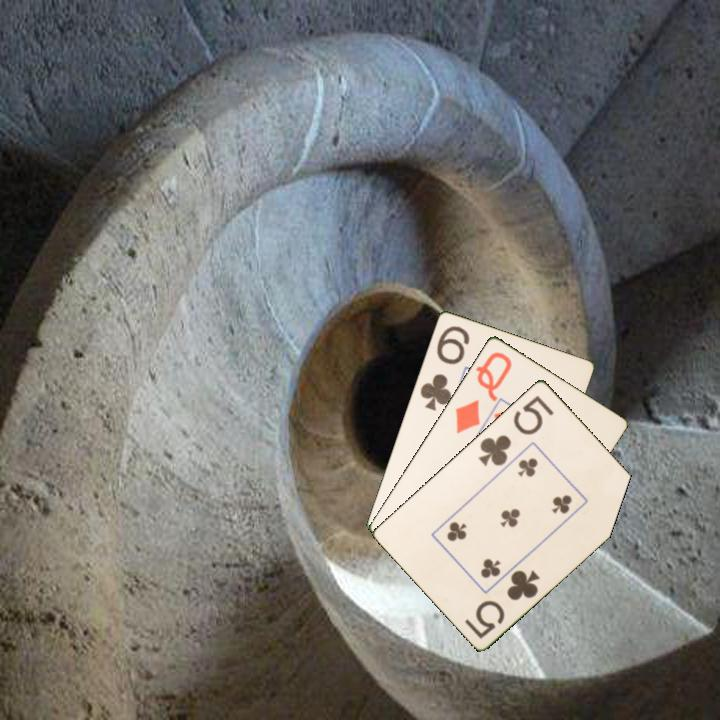5c: (475, 391, 557, 469), (461, 566, 543, 641)
6c: (416, 322, 472, 413)
Qd: (451, 348, 515, 436)
